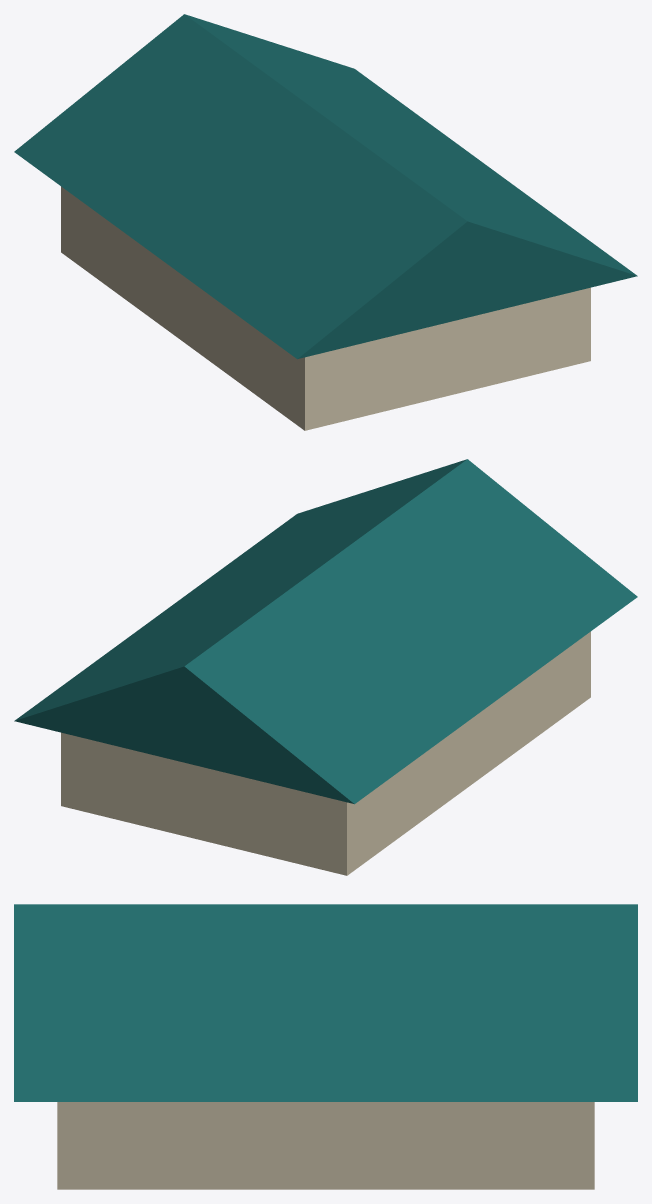
Rendered from k1_memory.obj.
3 renders of one model, top to bottom at view 1: azimuth 30°, elevation 25°; view 2: azimuth 150°, elevation 25°; view 3: azimuth 270°, elevation 25°, orthographic. The views are drawn at different scales.
Parts seen in each view (by area): view 1: k1_memory; view 2: k1_memory; view 3: k1_memory.
Part boxes in pixels (x1,y1,x2,y2): k1_memory: [14, 14, 637, 430]; k1_memory: [14, 459, 637, 875]; k1_memory: [14, 904, 637, 1189].
Bounding box in the file's own units: 0.5 × 0.265 × 0.72.
